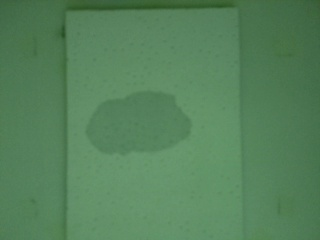Water_detected: (104, 102, 186, 156)
